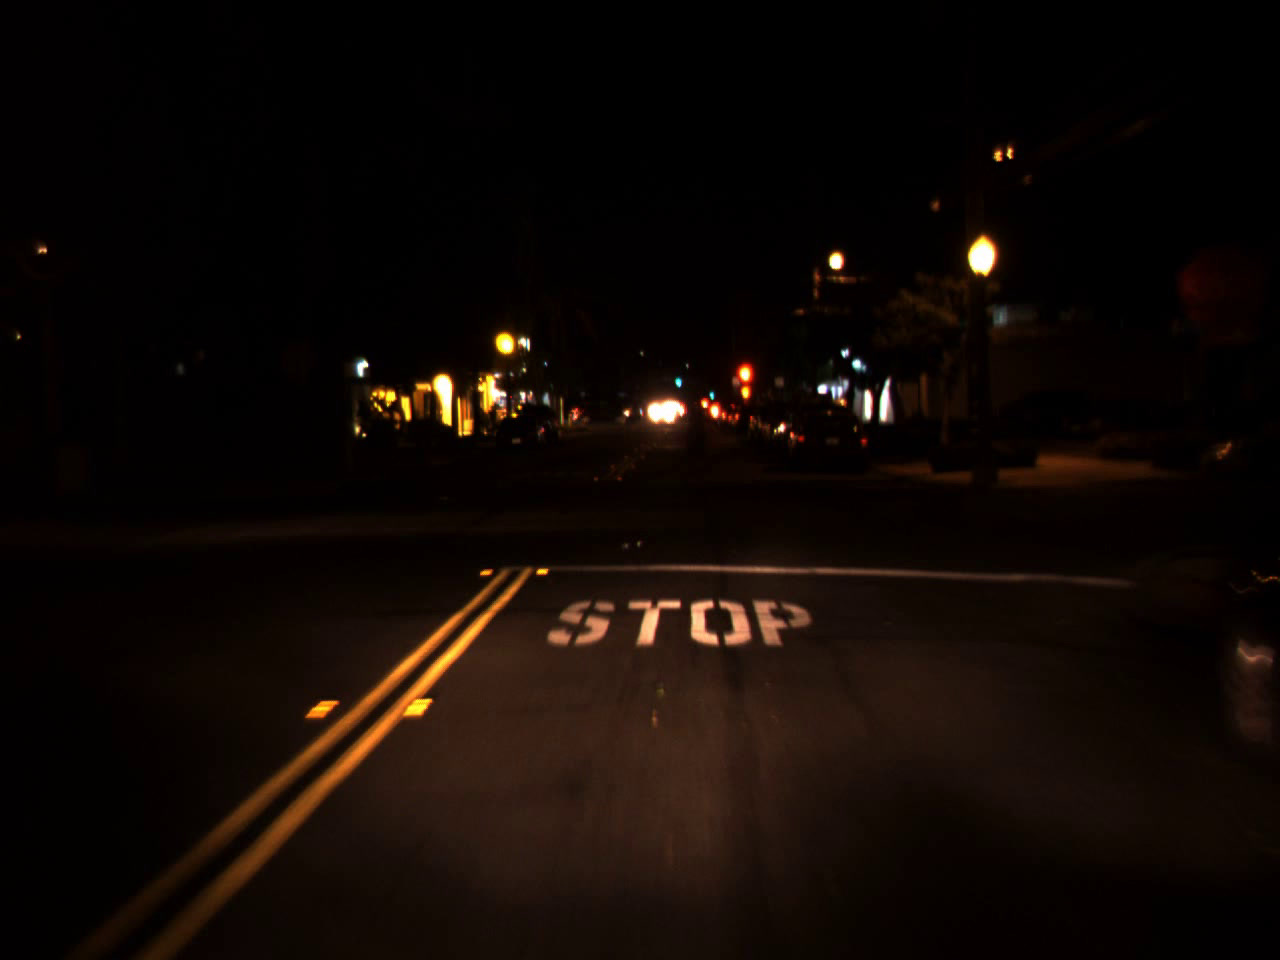go: (673, 371, 682, 389), (707, 384, 714, 402)
stop: (737, 364, 755, 396)
